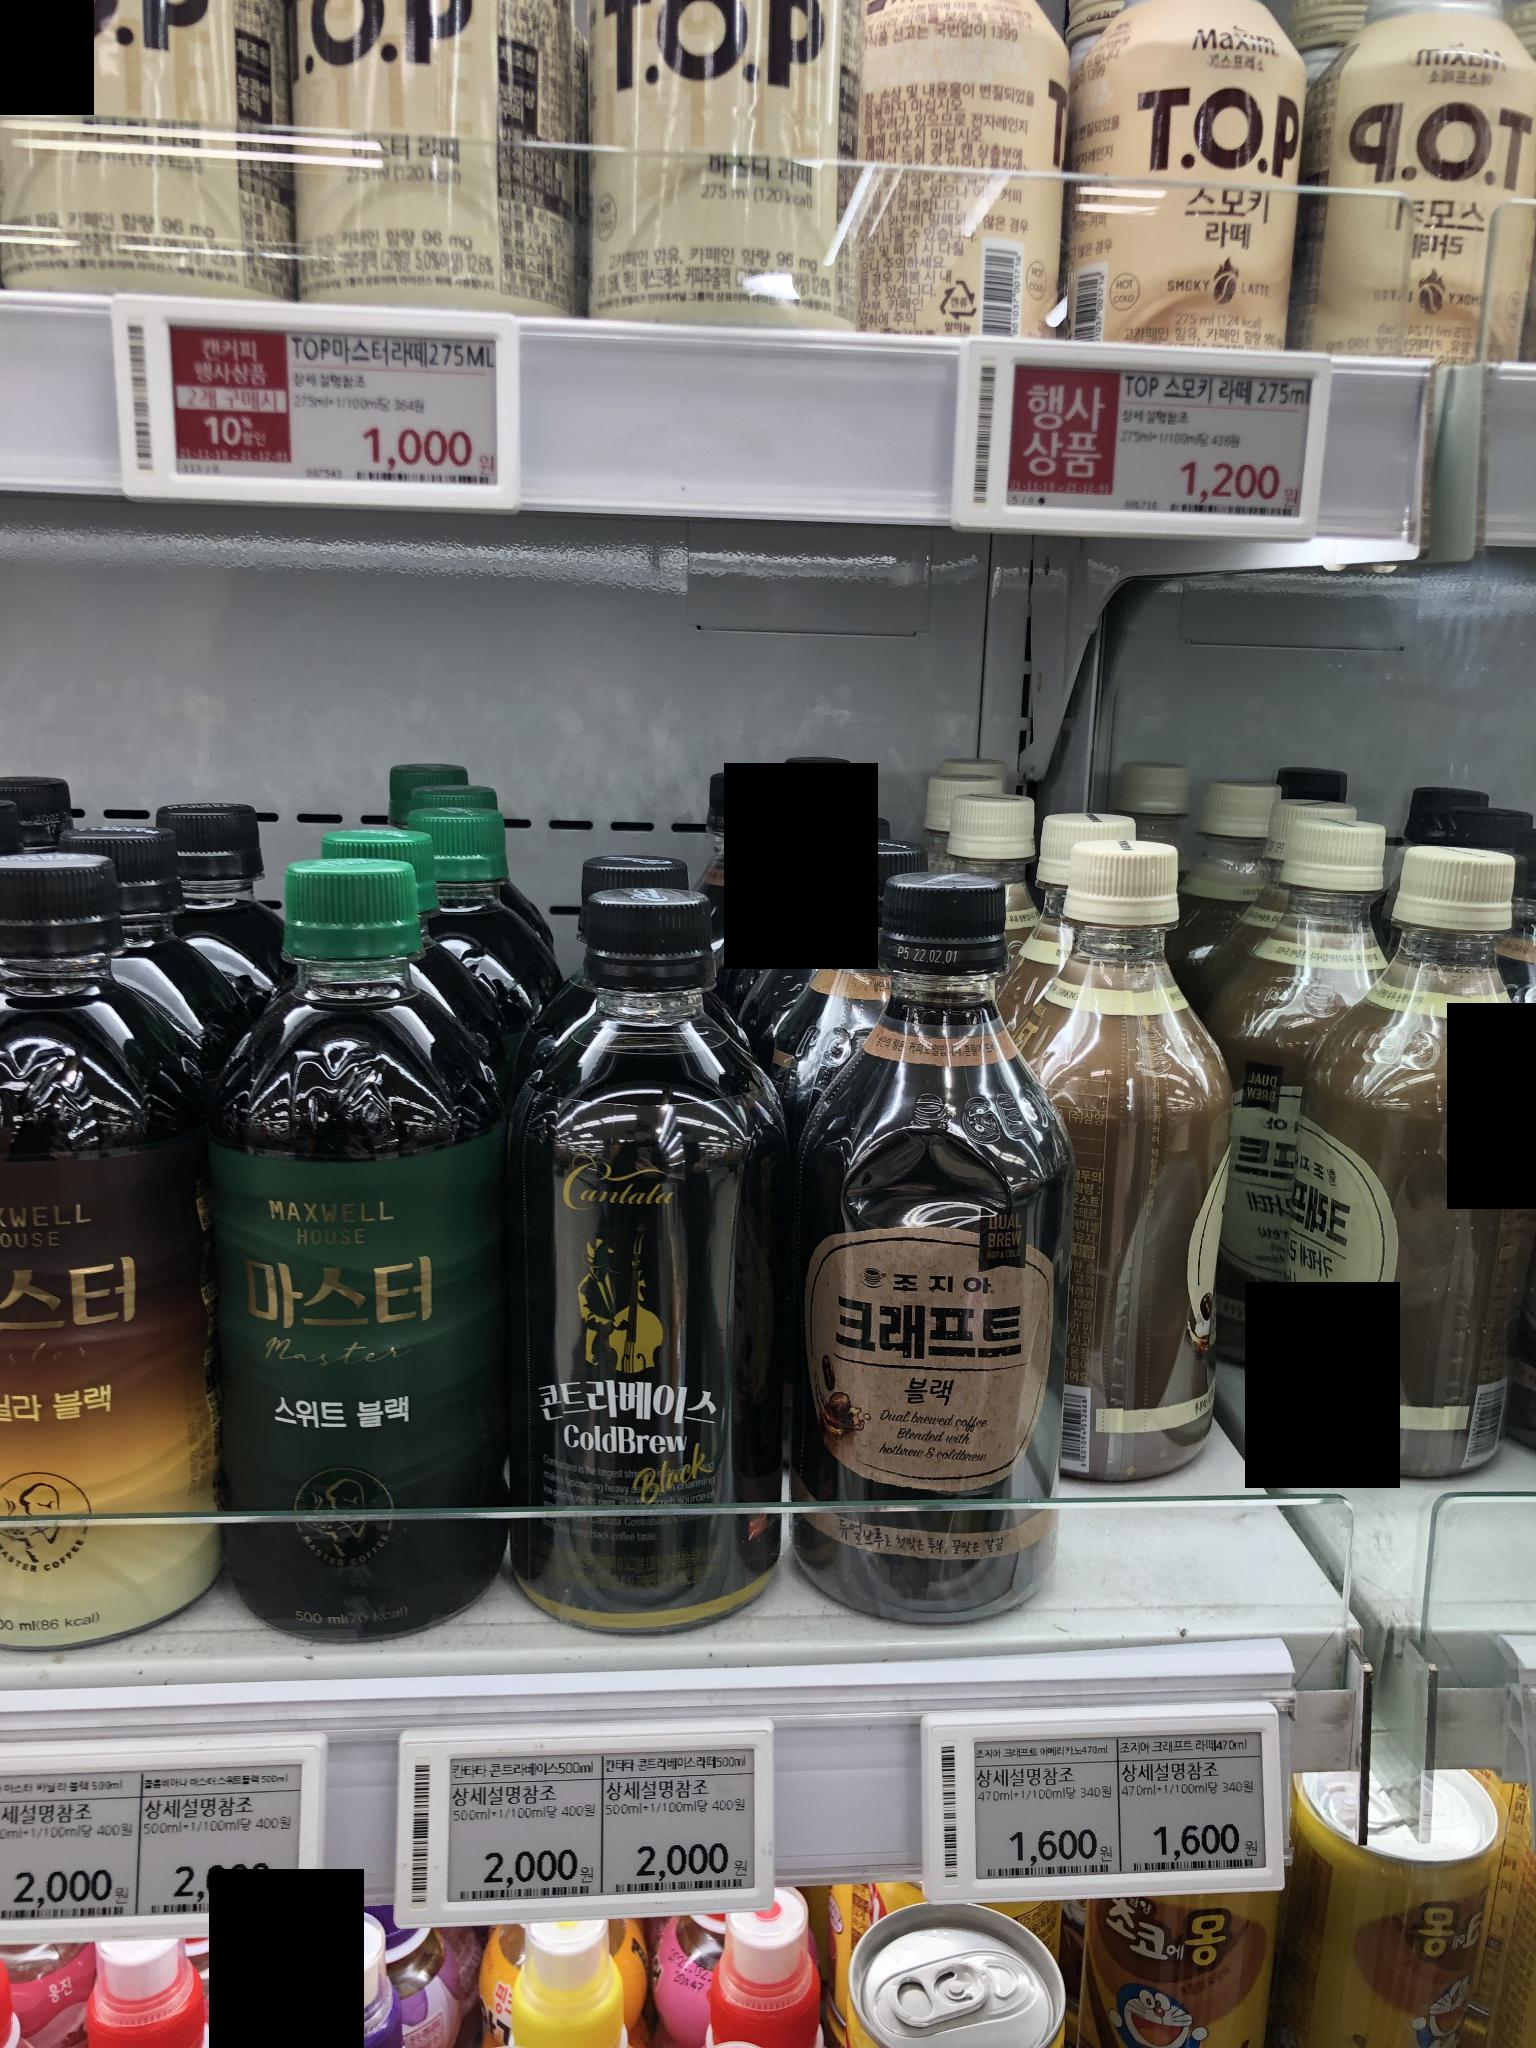georgiacraft_black: (784, 874, 1078, 1646)
